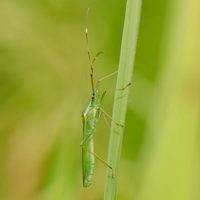insect: (81, 0, 141, 199), (92, 114, 111, 162)
